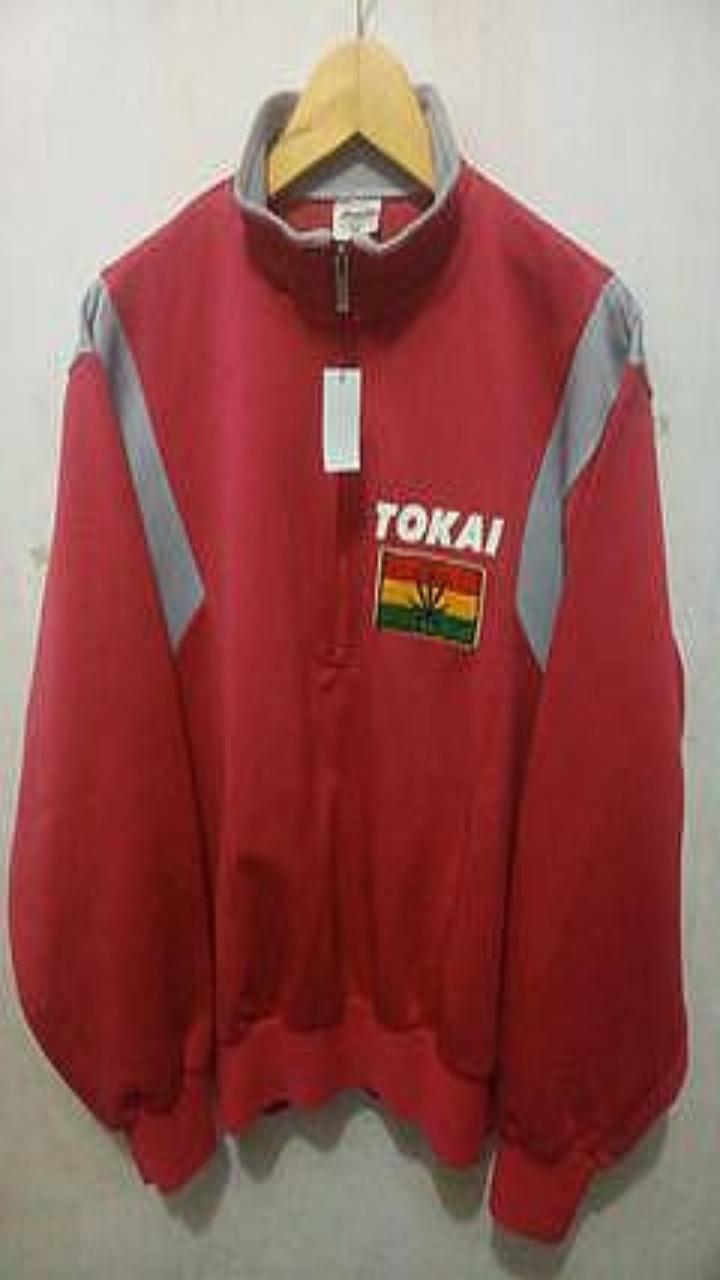Sports_Jacket: (8, 84, 687, 1239)
